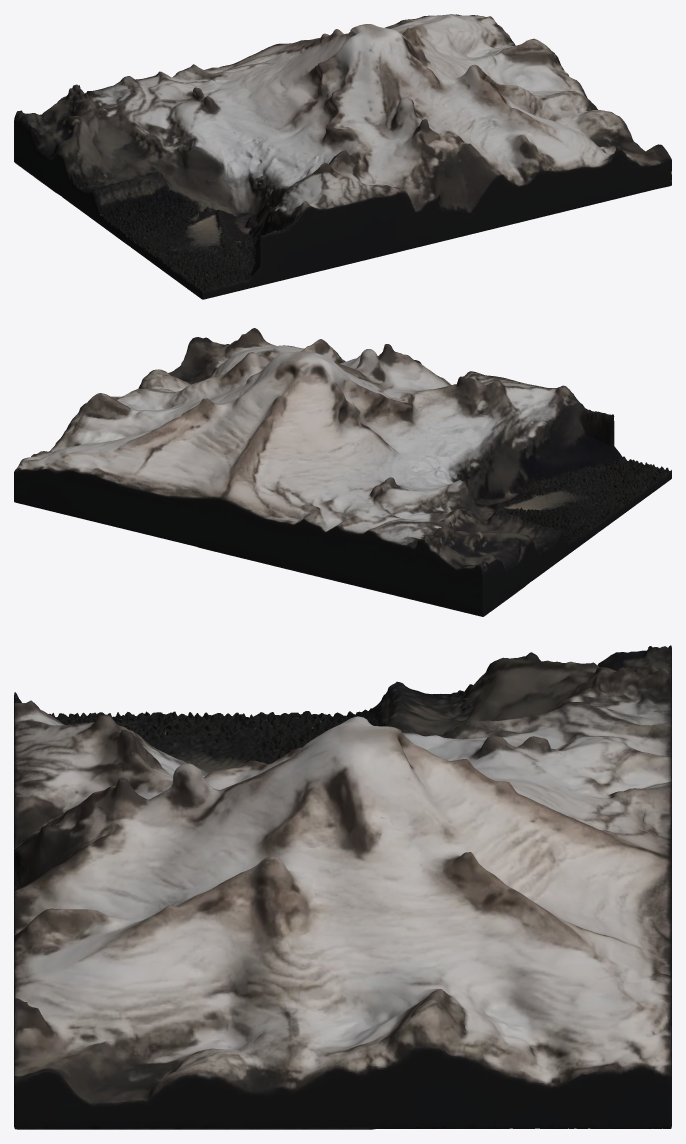
The model's file is Baker.glb.
The picture shows the model from 3 angles, top to bottom: view 1: azimuth 30°, elevation 25°; view 2: azimuth 150°, elevation 25°; view 3: azimuth 270°, elevation 25°; orthographic projection. The views are drawn at different scales.
Parts seen in each view (by area): view 1: world; view 2: world; view 3: world.
Boxes of the visible parts, x1,y1,x2,y2 form: world: (14,14,671,299); world: (14,328,671,616); world: (14,645,671,1129).
Size of the model in its own units: 1 by 0.2681 by 0.6972.
1 material, 1 textured.
